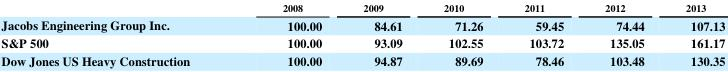table: (0, 0, 724, 69)
table column: (0, 0, 235, 69), (235, 0, 341, 69), (341, 0, 422, 69), (422, 0, 503, 69), (583, 0, 664, 69), (503, 0, 583, 69), (664, 0, 724, 69)
table column header: (0, 0, 724, 15)
table row: (0, 15, 724, 34), (0, 51, 724, 69), (0, 34, 724, 51), (0, 0, 724, 15)
